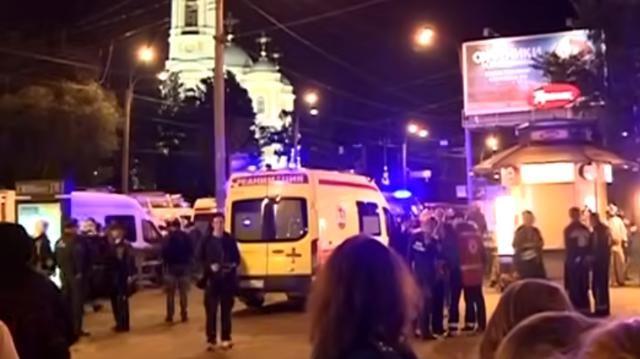intensive care unit: (223, 166, 403, 310)
